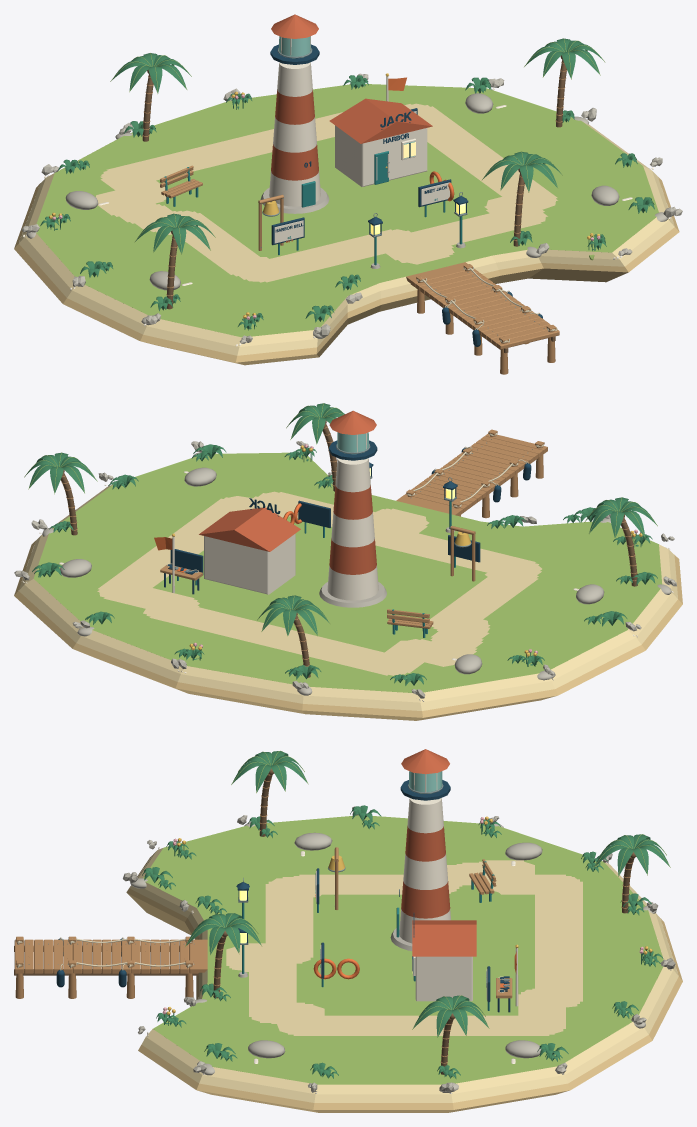
Rendered from harbor.glb.
3 renders of one model, top to bottom at view 1: azimuth 30°, elevation 25°; view 2: azimuth 150°, elevation 25°; view 3: azimuth 270°, elevation 25°, orthographic. The views are drawn at different scales.
Parts seen in each view (by area): view 1: static_grass, static_v5_sand, static_v5_dock_wood, static_ivory, static_v5_wetsand, static_v5_stone, static_v5_foliage, occluder_harbor_roof_terracotta, static_terracotta, occluder_harbor_tree_12_v5_foliage, occluder_harbor_tree_8_v5_foliage, occluder_harbor_tree_4_v5_foliage (+5 smaller); view 2: static_grass, static_v5_sand, static_ivory, static_v5_dock_wood, static_v5_wetsand, static_v5_stone, static_v5_foliage, occluder_harbor_roof_terracotta, static_terracotta, occluder_harbor_tree_8_v5_foliage, occluder_harbor_tree_4_v5_foliage, occluder_harbor_tree_12_v5_foliage (+6 smaller); view 3: static_grass, static_v5_sand, static_v5_dock_wood, static_v5_wetsand, static_ivory, static_v5_stone, static_v5_foliage, static_terracotta, occluder_harbor_roof_terracotta, occluder_harbor_tree_8_v5_foliage, occluder_harbor_tree_4_v5_foliage, occluder_harbor_tree_12_v5_foliage (+6 smaller).
Part boxes in pixels (<box>): static_grass: <box>36,84,658,337</box>; static_v5_sand: <box>19,103,674,355</box>; static_v5_dock_wood: <box>160,165,559,374</box>; static_ivory: <box>23,62,670,346</box>; static_v5_wetsand: <box>14,177,679,365</box>; static_v5_stone: <box>21,73,682,343</box>; static_v5_foliage: <box>40,75,654,330</box>; occluder_harbor_roof_terracotta: <box>329,98,432,143</box>; static_terracotta: <box>271,90,318,180</box>; occluder_harbor_tree_12_v5_foliage: <box>525,38,603,78</box>; occluder_harbor_tree_8_v5_foliage: <box>111,53,190,92</box>; occluder_harbor_tree_4_v5_foliage: <box>135,214,214,253</box>; static_grass: <box>33,452,662,692</box>; static_v5_sand: <box>18,484,677,710</box>; static_ivory: <box>22,458,673,701</box>; static_v5_dock_wood: <box>160,429,547,628</box>; static_v5_wetsand: <box>14,541,682,720</box>; static_v5_stone: <box>14,441,676,698</box>; static_v5_foliage: <box>32,444,657,685</box>; occluder_harbor_roof_terracotta: <box>199,507,300,551</box>; static_terracotta: <box>329,485,376,574</box>; occluder_harbor_tree_8_v5_foliage: <box>258,595,328,635</box>; occluder_harbor_tree_4_v5_foliage: <box>586,497,656,537</box>; occluder_harbor_tree_12_v5_foliage: <box>25,452,96,492</box>; static_grass: <box>143,815,663,1084</box>; static_v5_sand: <box>130,848,678,1102</box>; static_v5_dock_wood: <box>14,847,512,998</box>; static_v5_wetsand: <box>126,855,682,1112</box>; static_ivory: <box>147,798,671,1093</box>; static_v5_stone: <box>123,806,675,1092</box>; static_v5_foliage: <box>142,805,663,1078</box>; static_terracotta: <box>401,826,450,918</box>; occluder_harbor_roof_terracotta: <box>412,920,476,956</box>; occluder_harbor_tree_8_v5_foliage: <box>594,834,669,875</box>; occluder_harbor_tree_4_v5_foliage: <box>232,751,306,791</box>; occluder_harbor_tree_12_v5_foliage: <box>413,995,488,1036</box>.
Bounding box in the file's own units: 29.22 × 10.37 × 28.6.
